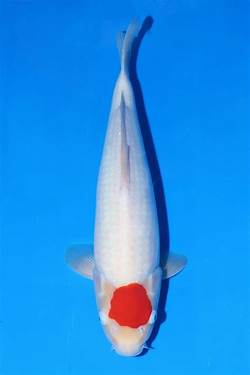sun: (64, 17, 188, 357)
